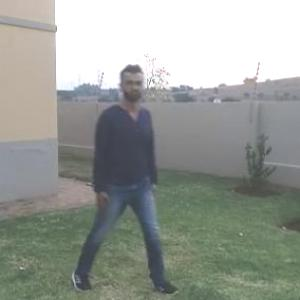follow: (90, 70, 153, 258)
